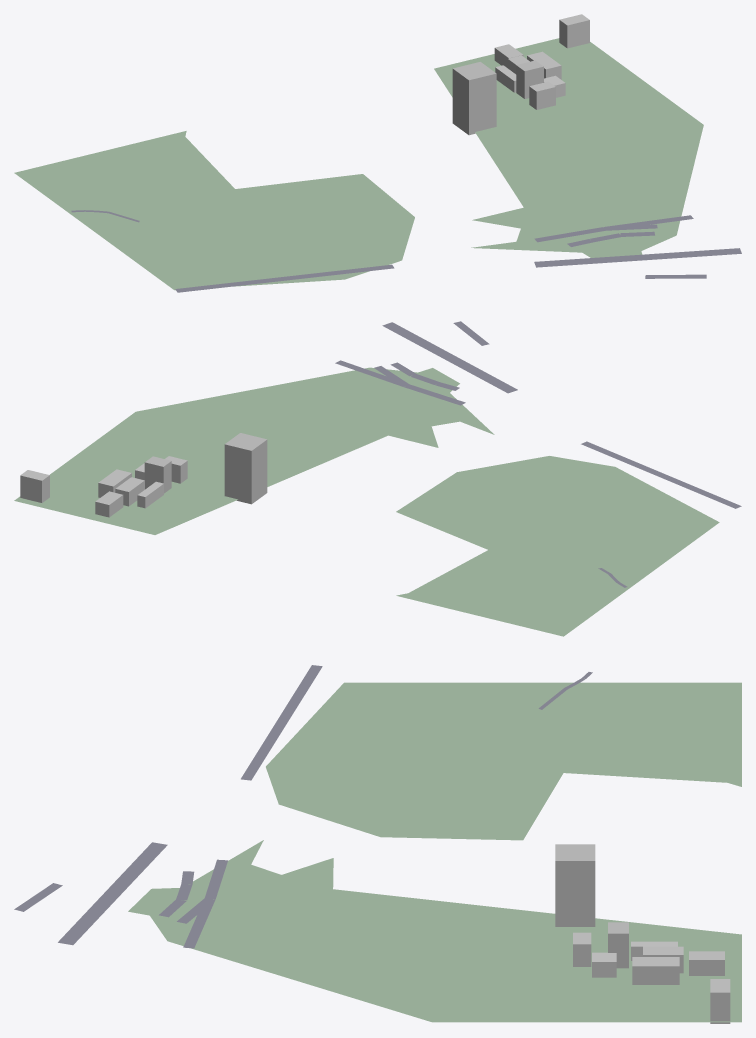
File: 138_82_mid.glb
3 renders of one model, top to bottom at view 1: azimuth 30°, elevation 25°; view 2: azimuth 150°, elevation 25°; view 3: azimuth 270°, elevation 25°, orthographic. The views are drawn at different scales.
Size of the model in its own units: 509 by 47.14 by 450.
